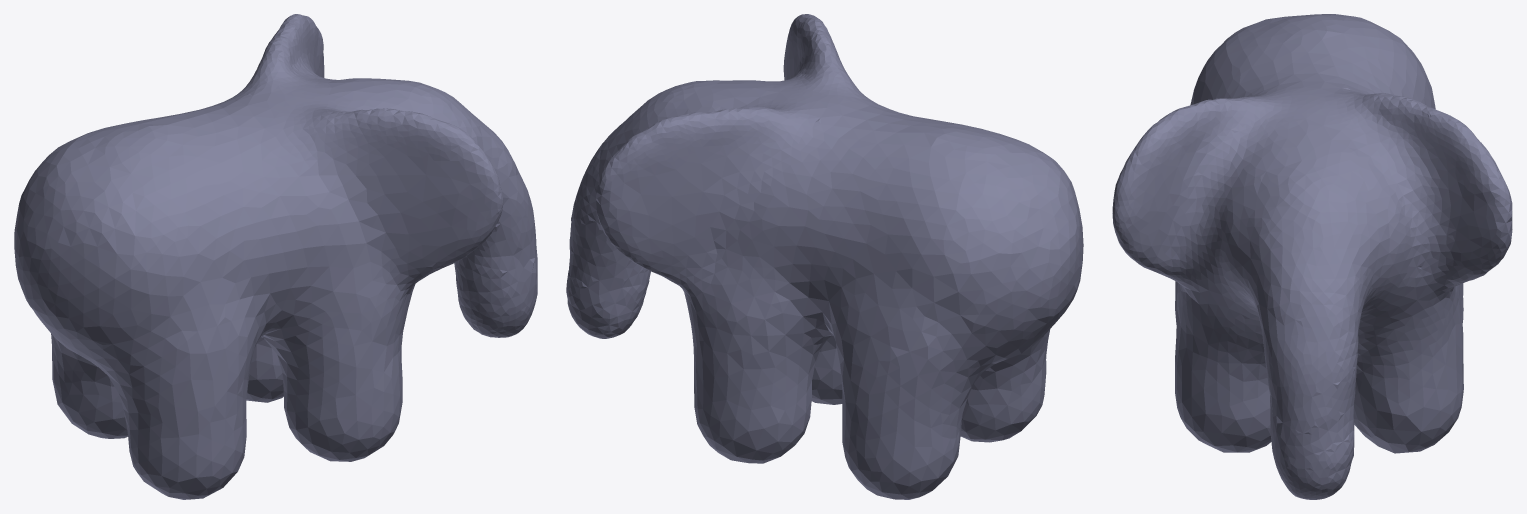
The model's file is php.gltf.
The picture shows the model from 3 angles, left to right: view 1: azimuth 30°, elevation 25°; view 2: azimuth 150°, elevation 25°; view 3: azimuth 270°, elevation 25°; orthographic projection. The views are drawn at different scales.
Visible parts, largest first — view 1: ElePHPant3; view 2: ElePHPant3; view 3: ElePHPant3.
Boxes of the visible parts, x1,y1,x2,y2 form: ElePHPant3: (14,14,537,499); ElePHPant3: (566,14,1083,499); ElePHPant3: (1112,14,1512,499).
Size of the model in its own units: 3 by 2.01 by 2.02.
